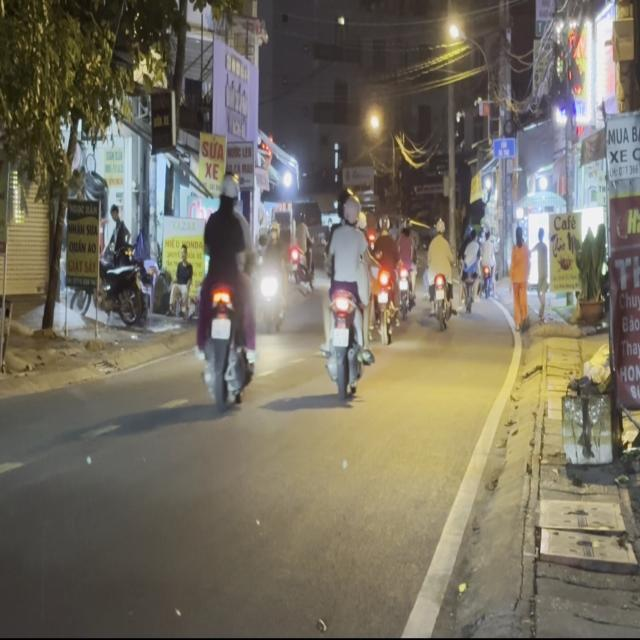helmet: (217, 172, 238, 208)
licenseplate: (192, 170, 258, 412)
nohelmet: (211, 318, 230, 338)
